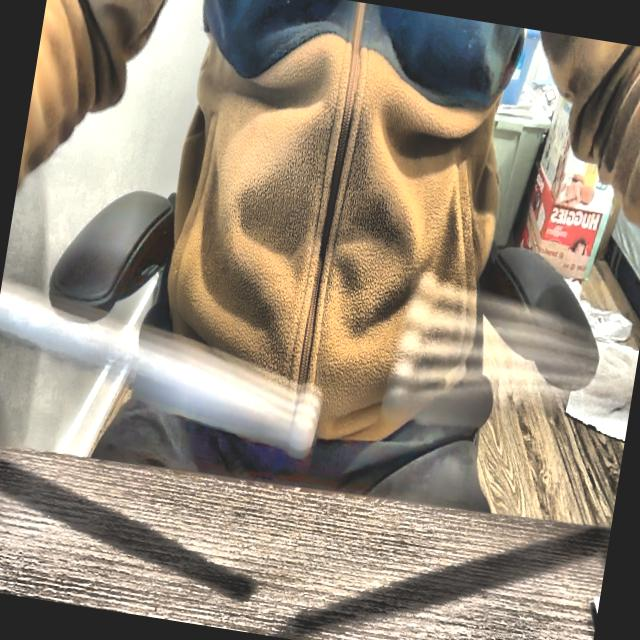Drumstick-Heads: (375, 353, 415, 435), (283, 387, 325, 459)
